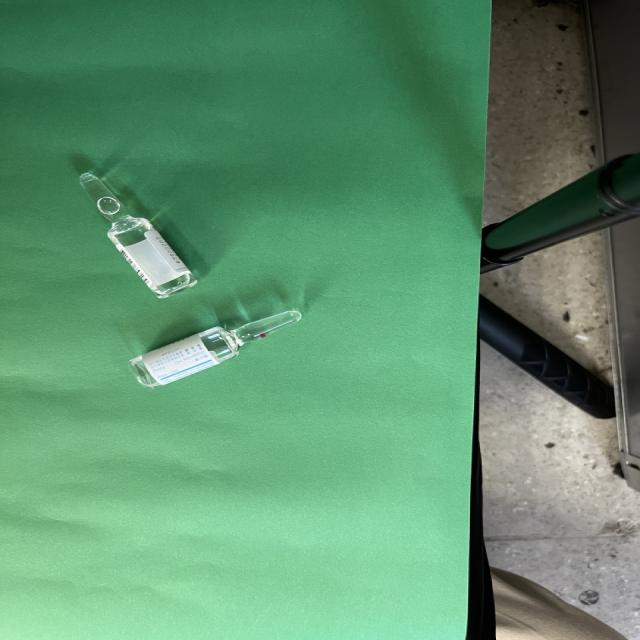Ampoules: (80, 172, 197, 298), (129, 309, 301, 388)
